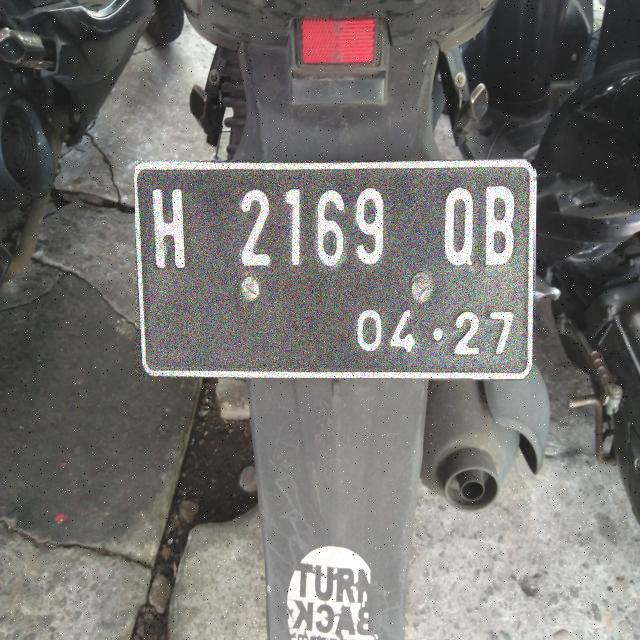plate: (135, 161, 533, 377)
